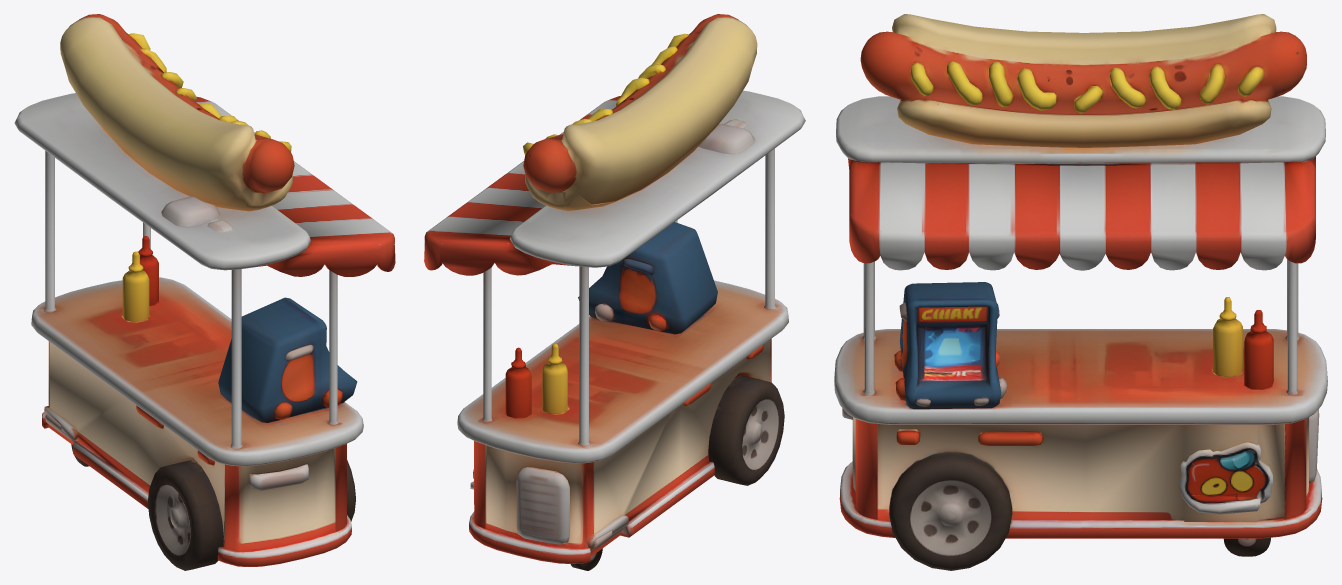
3 views of the same model, side by side, from view 1: azimuth 30°, elevation 25°; view 2: azimuth 150°, elevation 25°; view 3: azimuth 270°, elevation 25° (orthographic). The views are drawn at different scales.
Visible parts, largest first — view 1: tripo_node_509eb723-52d1-4688-ab18-081e024ad344; view 2: tripo_node_509eb723-52d1-4688-ab18-081e024ad344; view 3: tripo_node_509eb723-52d1-4688-ab18-081e024ad344.
Boxes of the visible parts, x1,y1,x2,y2 form: tripo_node_509eb723-52d1-4688-ab18-081e024ad344: (14,14,395,570); tripo_node_509eb723-52d1-4688-ab18-081e024ad344: (424,14,805,570); tripo_node_509eb723-52d1-4688-ab18-081e024ad344: (834,14,1327,570).
Size of the model in its own units: 0.4712 by 0.9995 by 0.896.
1 material, 1 textured.
